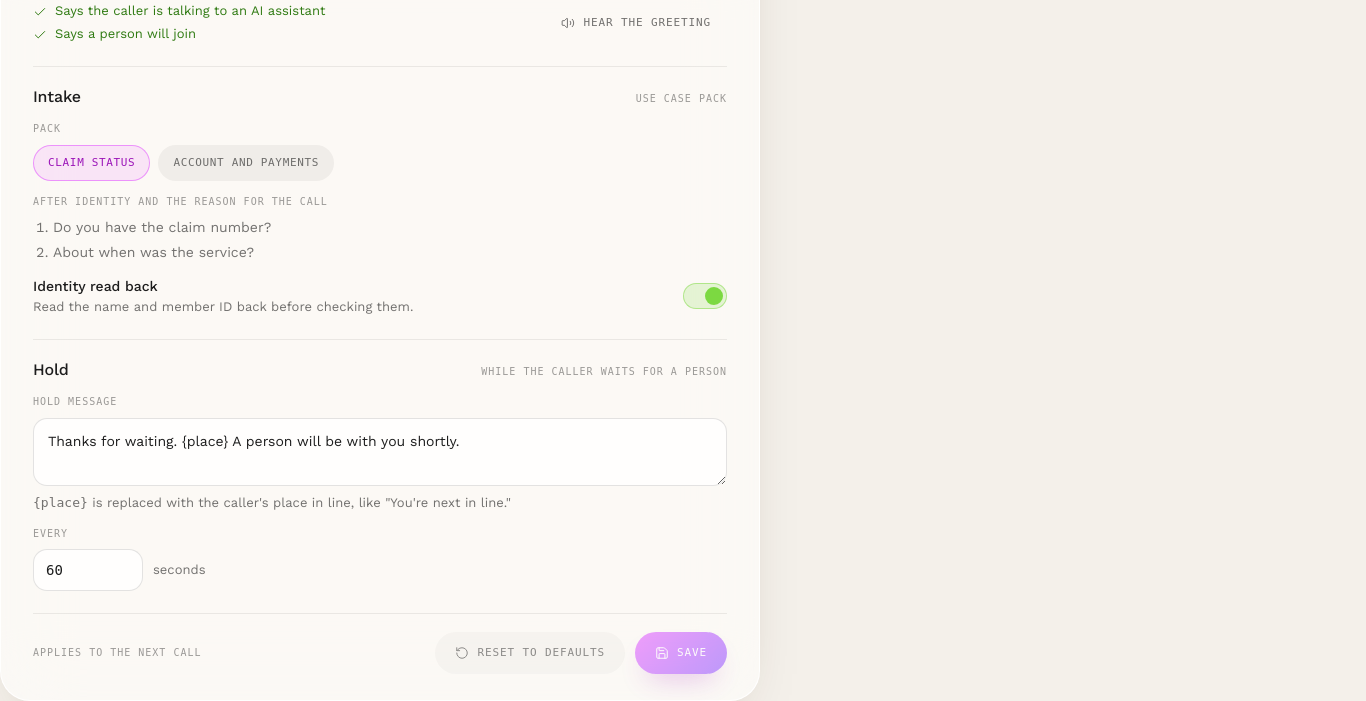
Test case: Settings page (P5-5, AP-20) › shows the server's field errors when it refuses a save
(page scrolled)
Replace the text in the number field labelled "Every" with "45". click: point(88, 570)
box: [33,549,143,591]
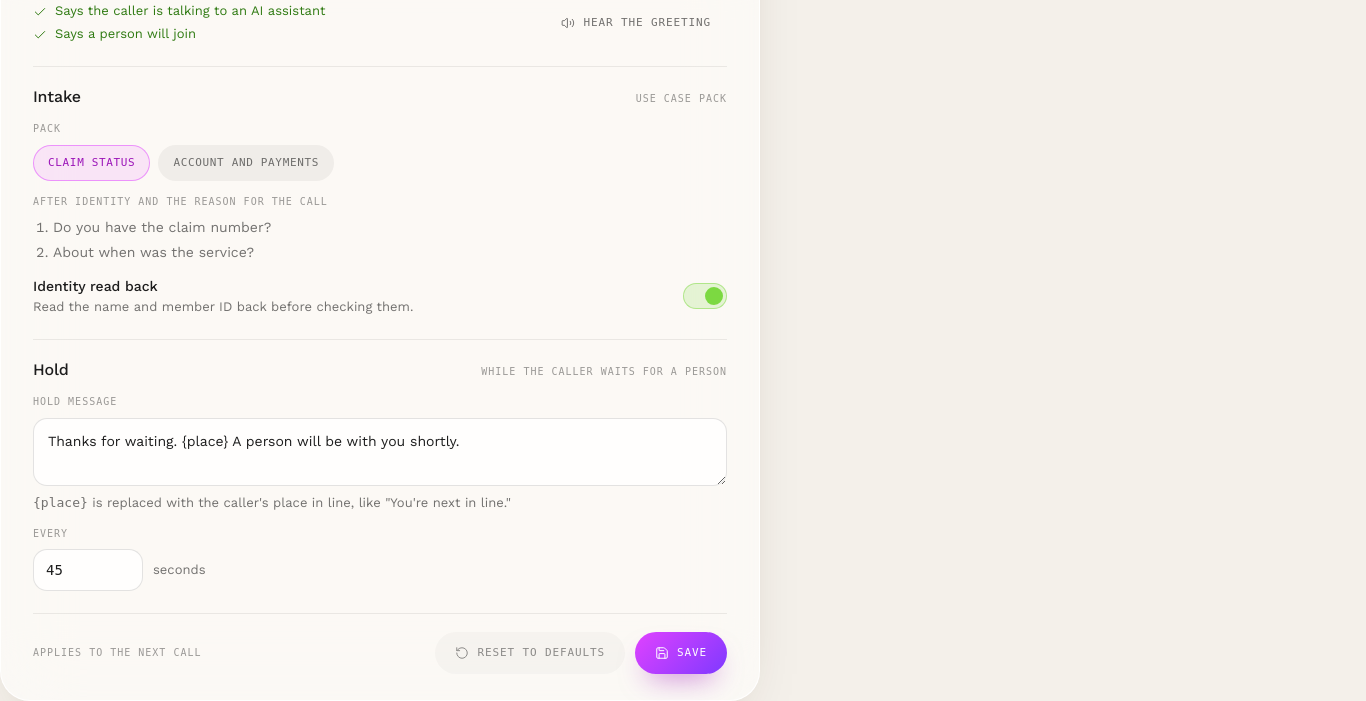
Click the button "Save". click: point(681, 653)
box: [635,632,727,674]
(page scrolled)
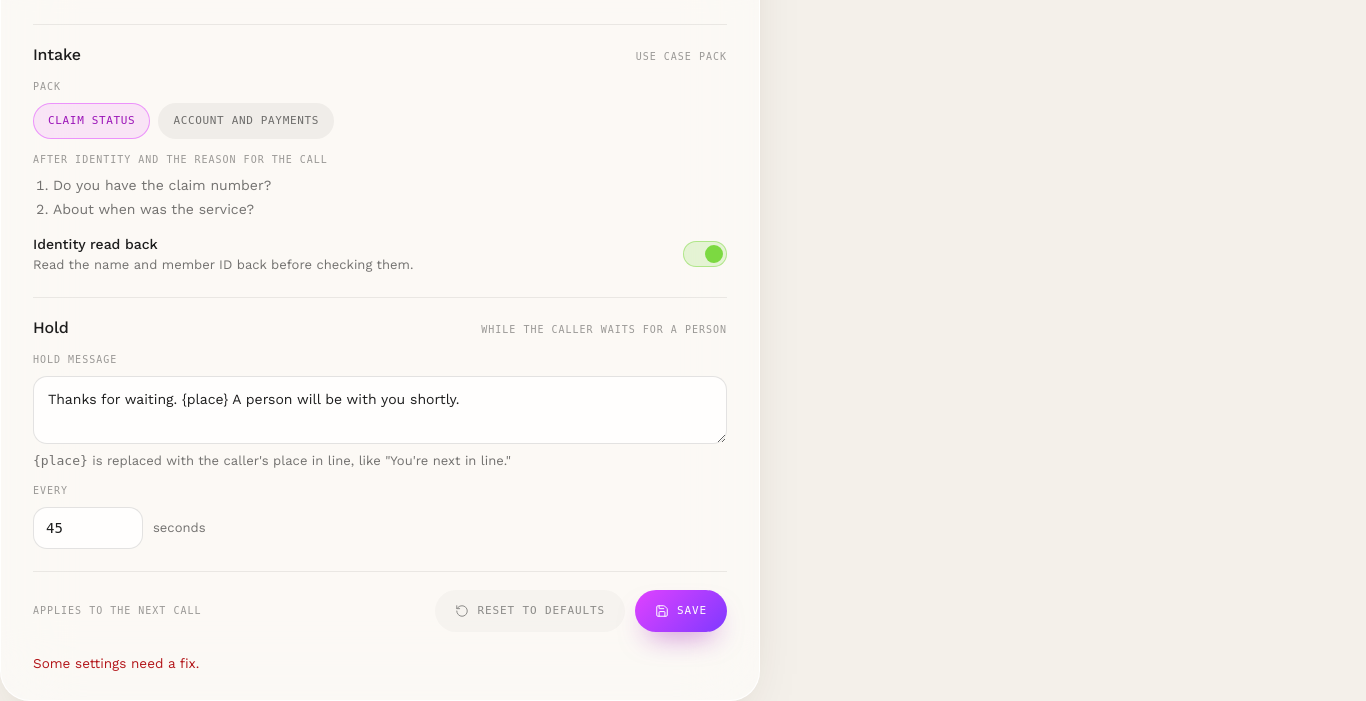
Expected: the message shows "need a fix", [33,655,199,671]
